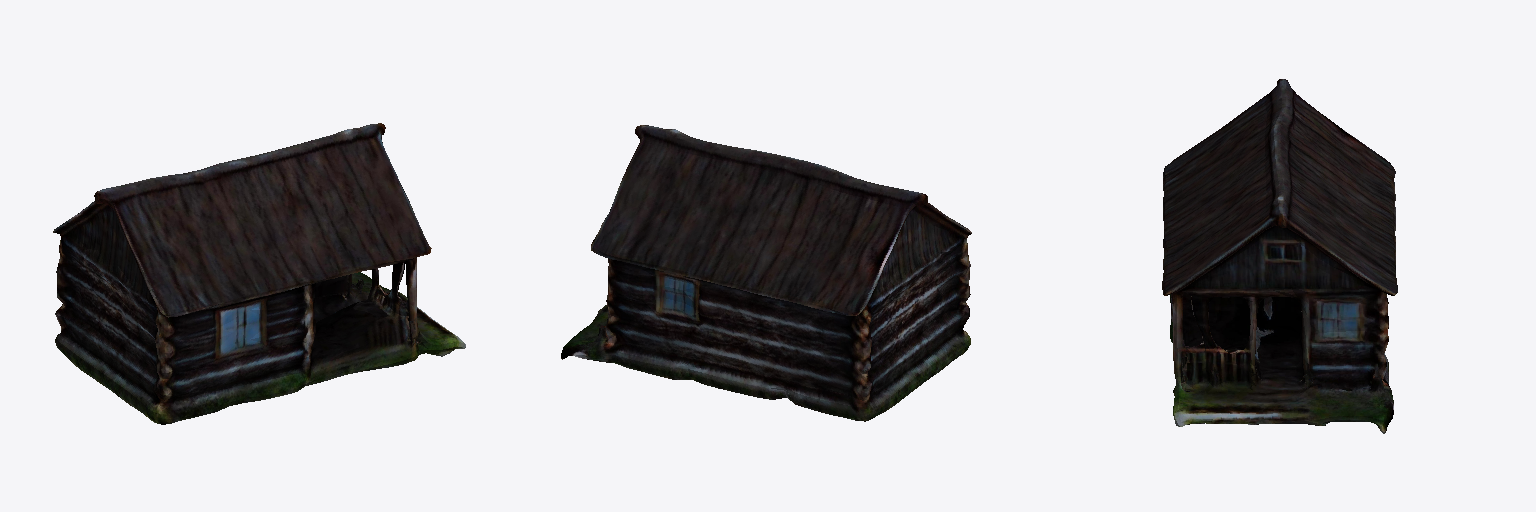
3 views of the same model, side by side, from view 1: azimuth 30°, elevation 25°; view 2: azimuth 150°, elevation 25°; view 3: azimuth 270°, elevation 25° (orthographic).
Visible parts, largest first — view 1: mesh; view 2: mesh; view 3: mesh.
Part boxes in pixels (x1,y1,x2,y2): mesh: (53, 123, 465, 424); mesh: (561, 125, 971, 421); mesh: (1162, 79, 1397, 433).
Size of the model in its own units: 0.9899 by 0.6074 by 0.6311.
1 materials, 1 textured.